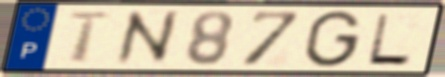7: (241, 9, 304, 68)
8: (184, 9, 236, 68)
G: (300, 9, 365, 70)
L: (363, 12, 414, 67)
N: (113, 8, 181, 68)
T: (65, 10, 115, 65)
